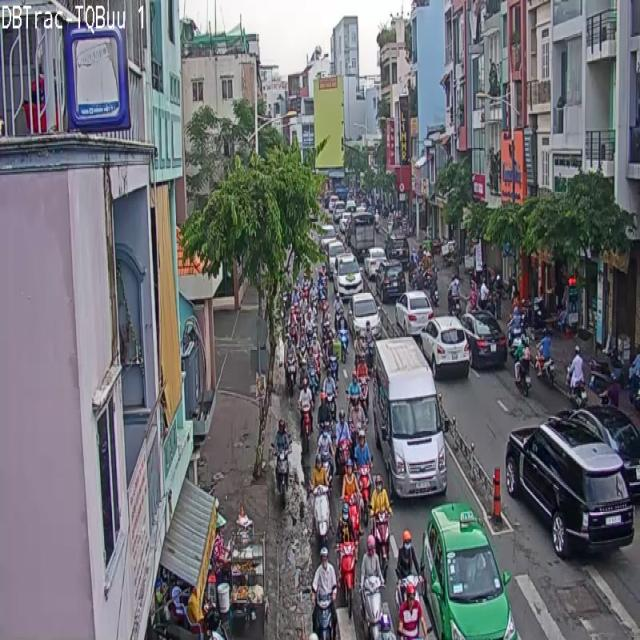car: (361, 535, 384, 639), (337, 505, 355, 606), (314, 488, 329, 542), (370, 475, 390, 513)
traffic-light: (506, 418, 634, 556), (422, 502, 518, 639), (374, 336, 446, 498), (420, 317, 469, 377), (461, 310, 506, 367), (352, 296, 378, 333)
